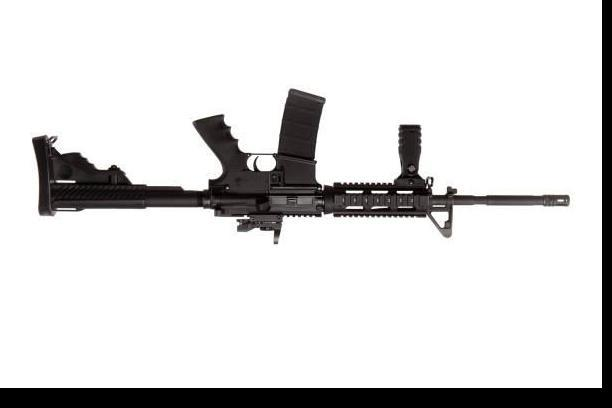larga: (31, 88, 570, 245)
